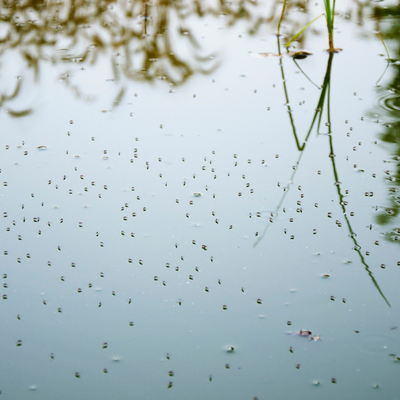Breeding_detected: (292, 323, 320, 347), (279, 227, 300, 240), (159, 350, 177, 363), (125, 316, 139, 330), (188, 189, 204, 200), (28, 215, 43, 226), (141, 204, 154, 216), (365, 221, 377, 233), (218, 301, 231, 312), (252, 229, 264, 240), (58, 271, 67, 285), (255, 296, 266, 307), (55, 304, 65, 316), (76, 218, 86, 230), (201, 286, 214, 295), (190, 238, 200, 249), (98, 272, 108, 282)
